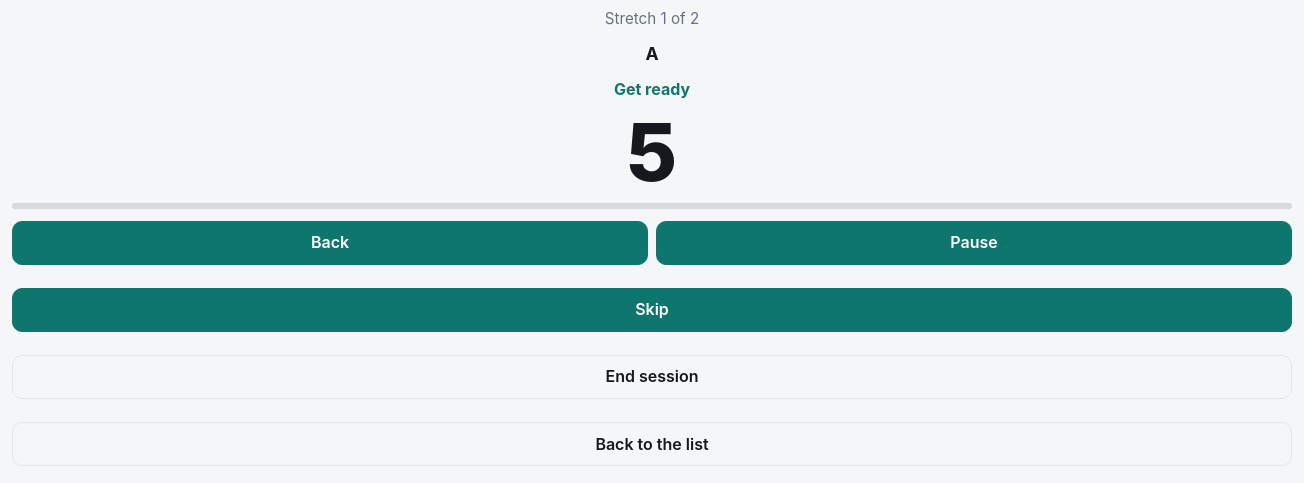
it: guided stretching › pauses and can be ended early
Later steps or results of the test are not shown.
Click the button "Pause" at (974, 243), box 656,221 -> 1292,265
Wait 20000 ms
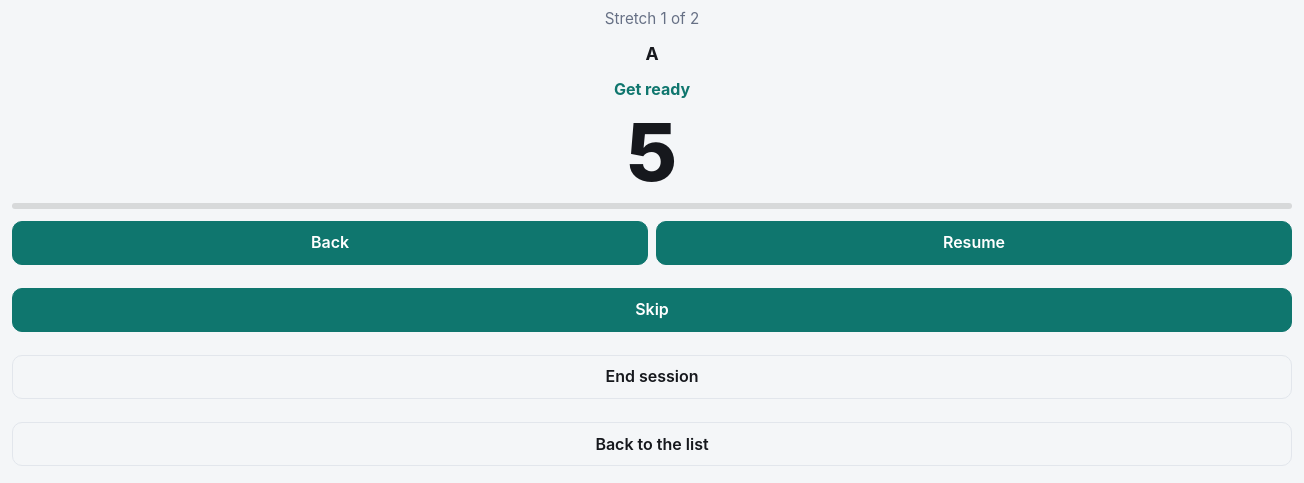
Expected: the text "Get ready" is shown, 614,79 -> 690,99
Click the button "Skip" at (652, 310), box 12,288 -> 1292,332
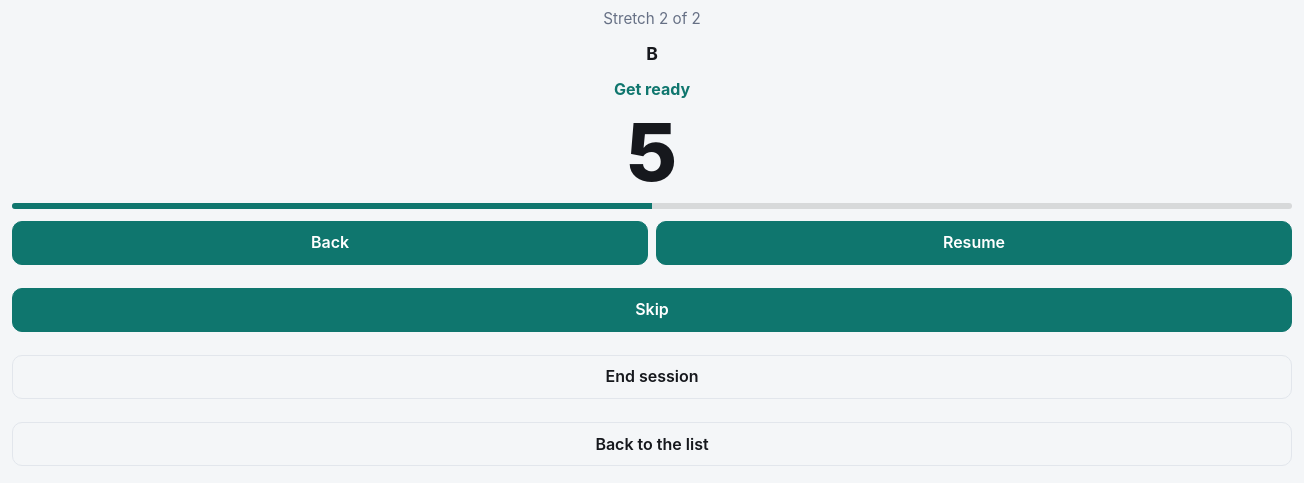
Result: the heading "B" is shown at 646,43 -> 658,64
